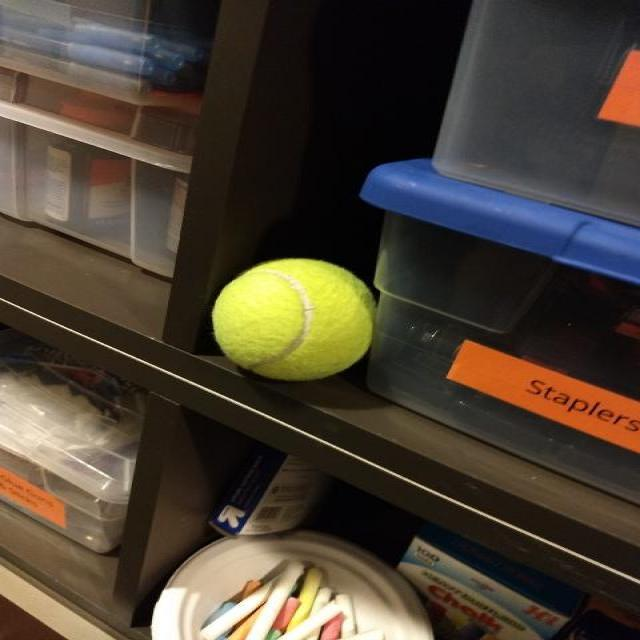tennis-ball: (208, 257, 374, 381)
